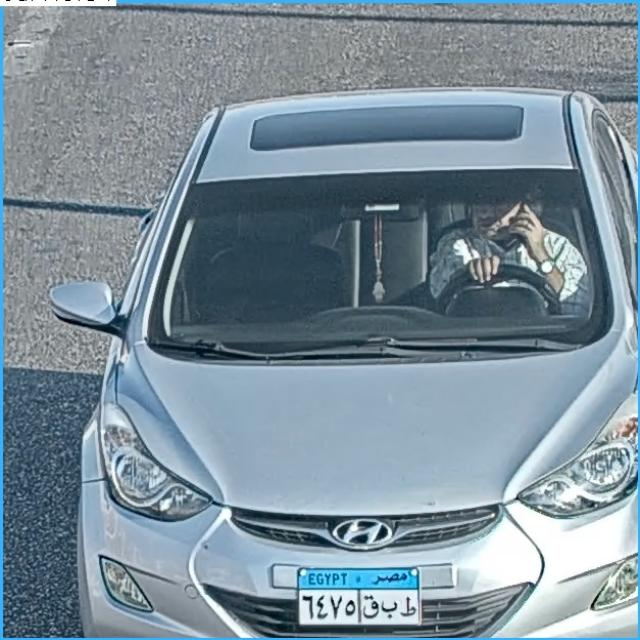windshield: (159, 176, 618, 349)
